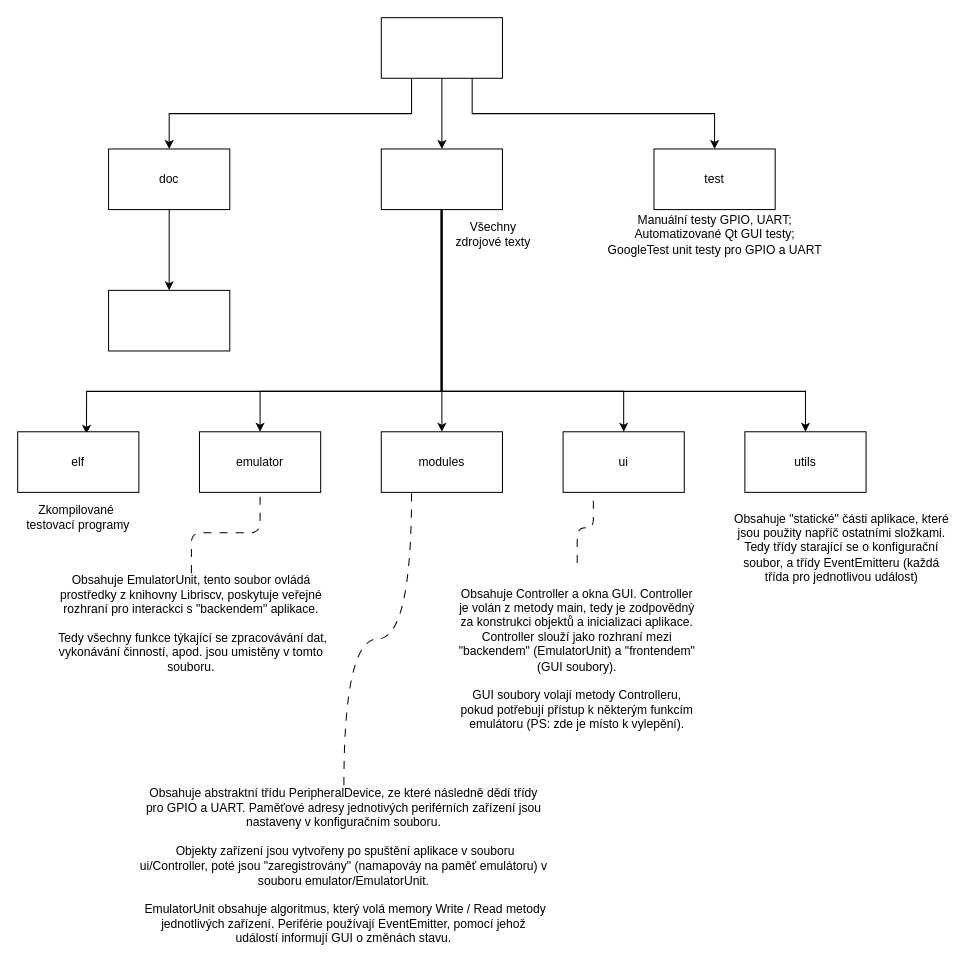
Some shapes in this 971 by 965 pixel diagram are drawn without their labels. The centre of each missing label's shape, as x and y in pixels:
project root: pixel 441 47
src: pixel 441 179
ZSWI dokumentace: pixel 169 320
